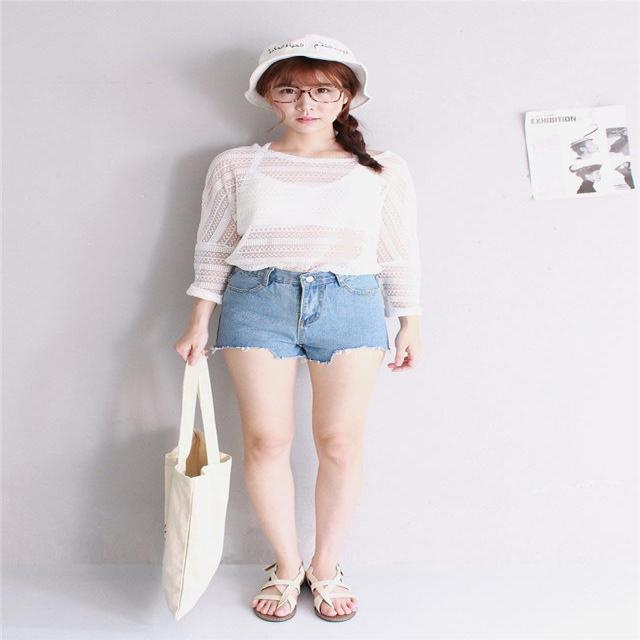long sleeve top: (188, 141, 422, 320)
shorts: (218, 264, 391, 359)
